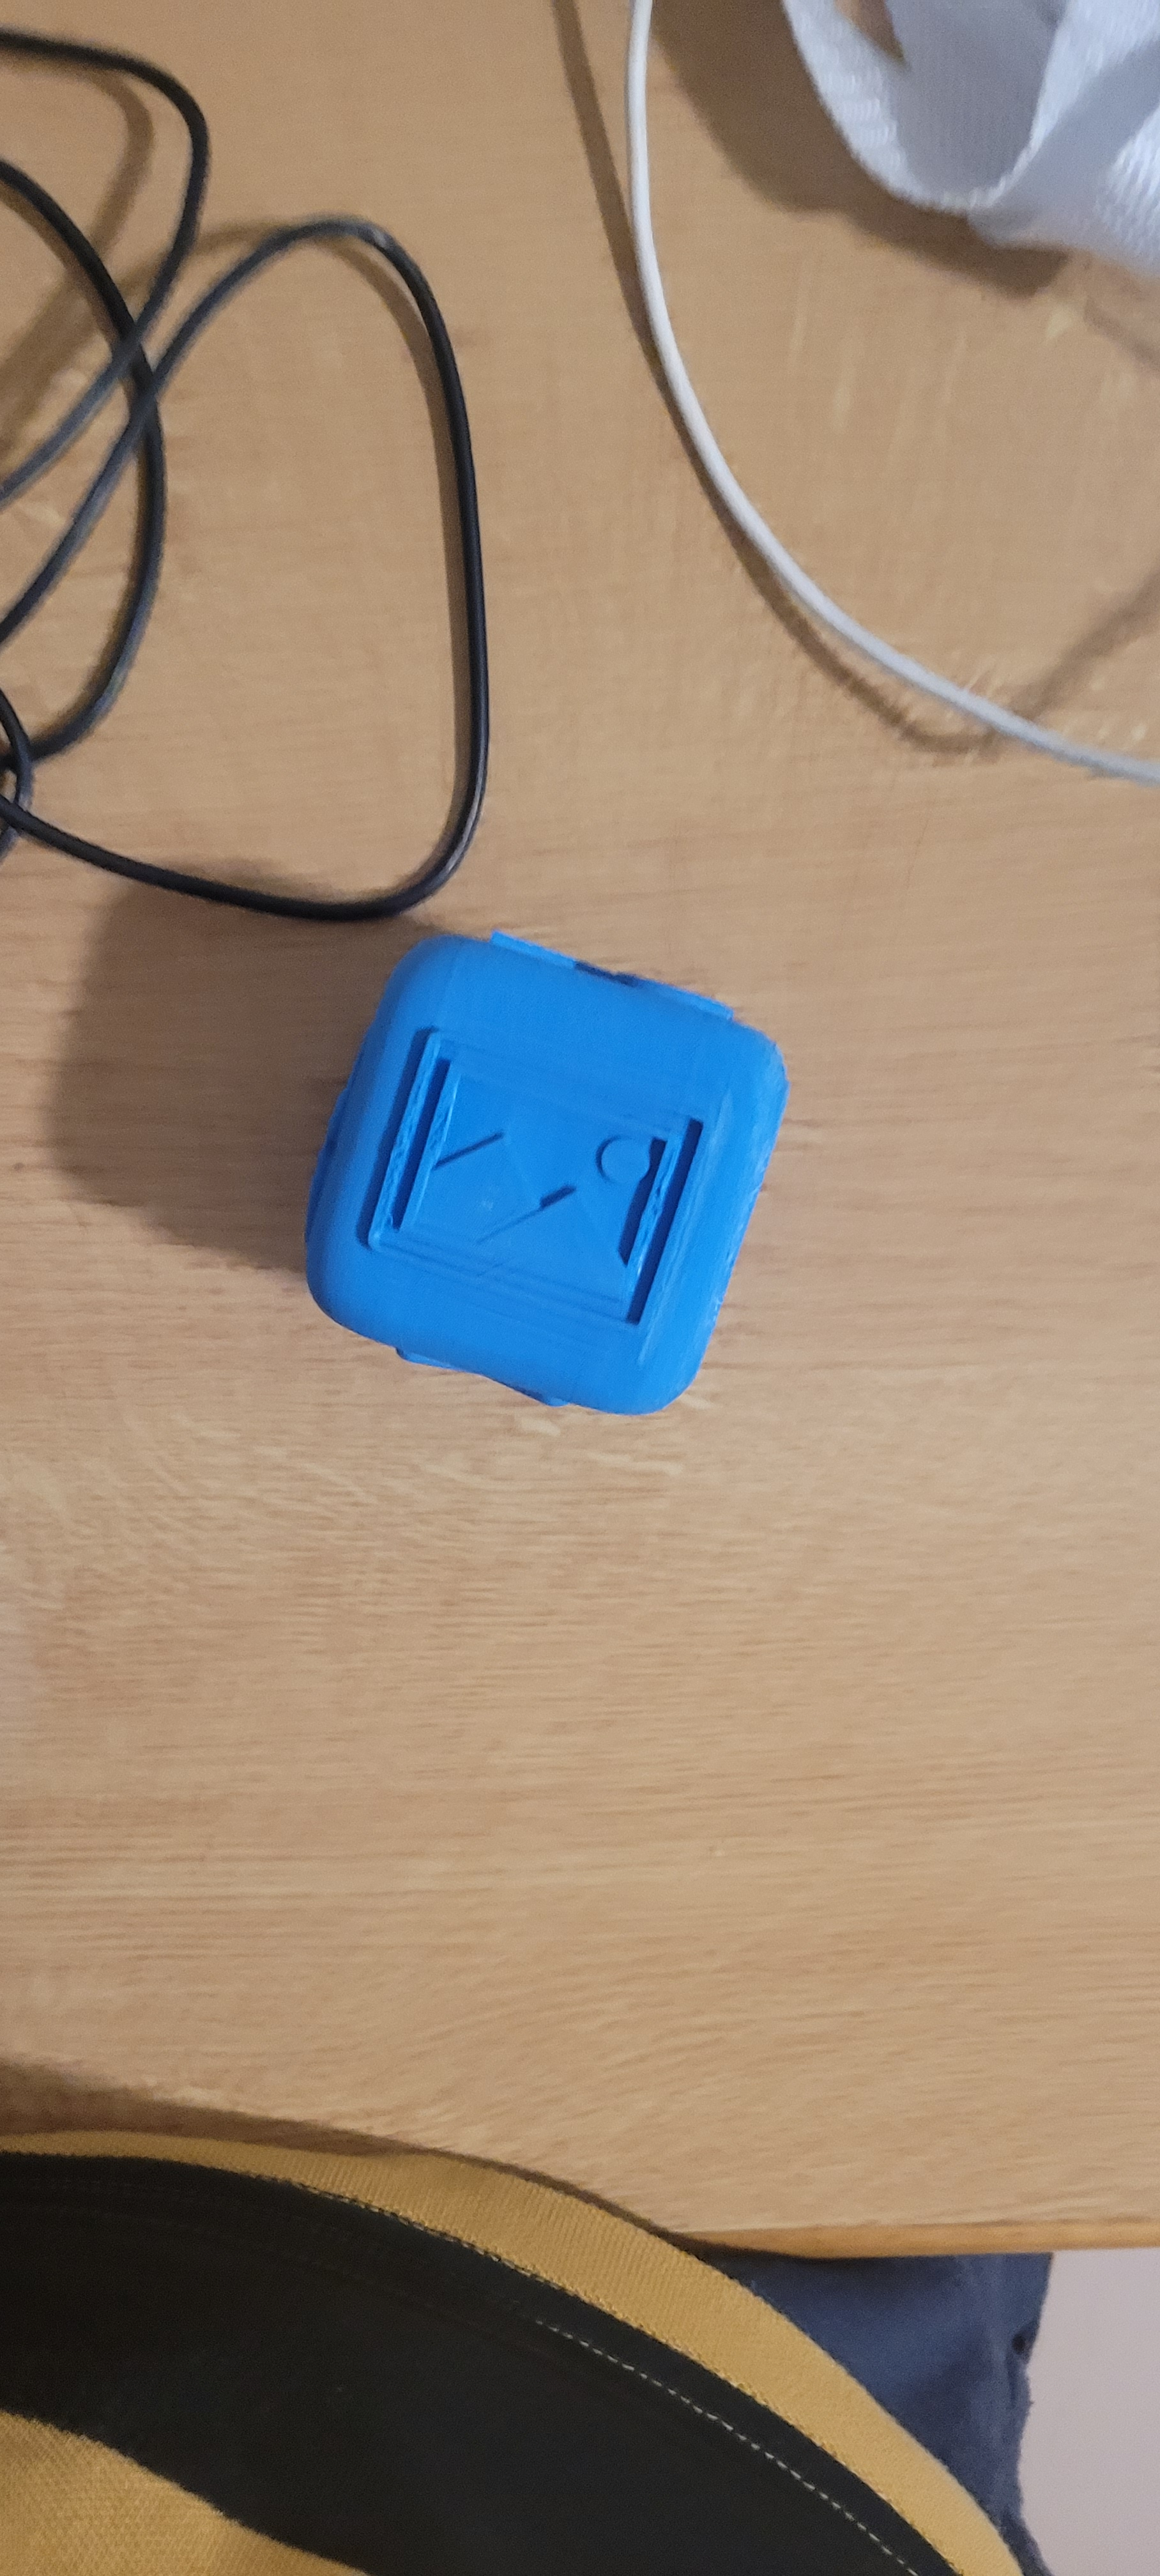Story: (347, 954, 702, 1365)
